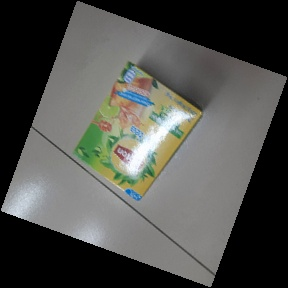LipTon: (72, 61, 204, 203)
